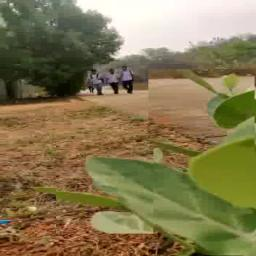Calotropis: (148, 69, 256, 256), (56, 142, 155, 234)
